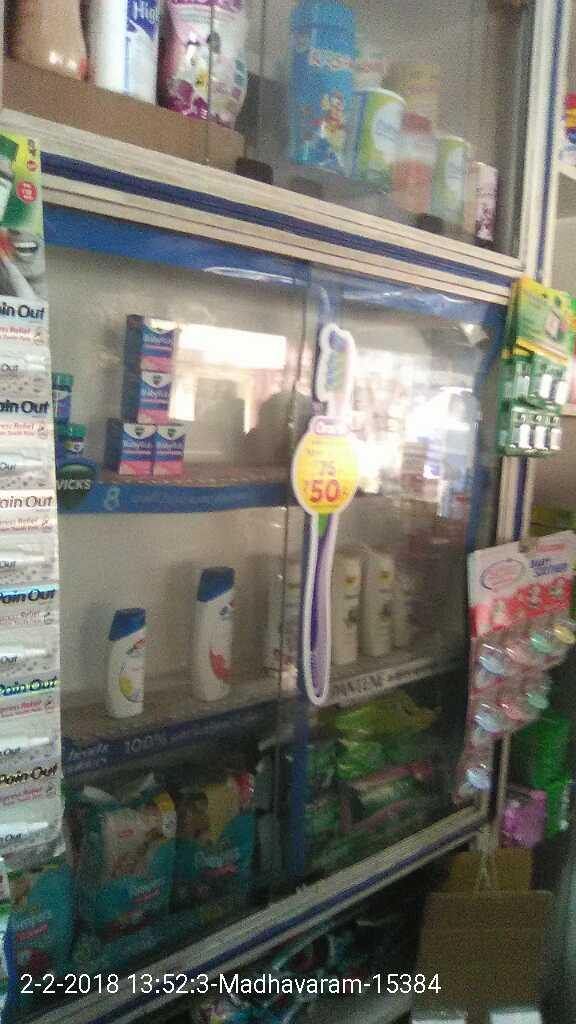vicks: (105, 310, 184, 480), (51, 362, 86, 468)
